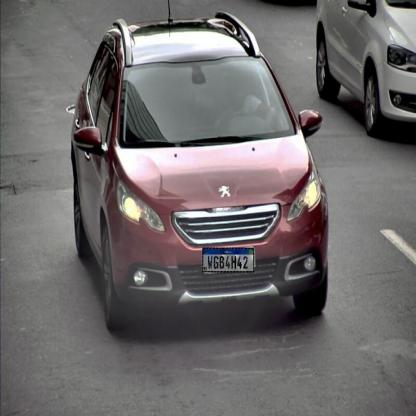PlacaM: (202, 248, 254, 272)
